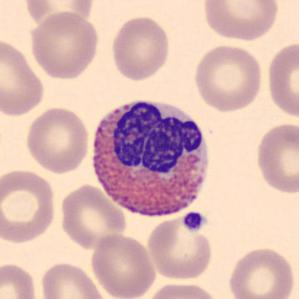Eosinophil: (85, 92, 216, 226)
Platelets: (182, 210, 207, 233)
RBC: (26, 9, 100, 81), (191, 42, 265, 113), (57, 182, 129, 251), (146, 212, 216, 282), (23, 104, 91, 175), (88, 231, 158, 299), (0, 166, 58, 246), (109, 14, 172, 83), (0, 36, 47, 118), (226, 244, 296, 299), (252, 120, 299, 196), (200, 0, 281, 42), (264, 38, 299, 120), (37, 259, 108, 299), (21, 0, 97, 31), (0, 260, 40, 299), (144, 280, 220, 299)
